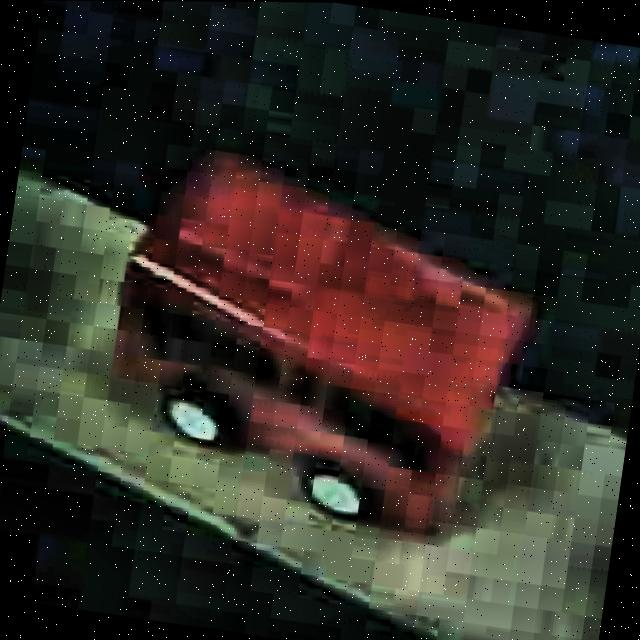bus: (94, 138, 548, 550)
